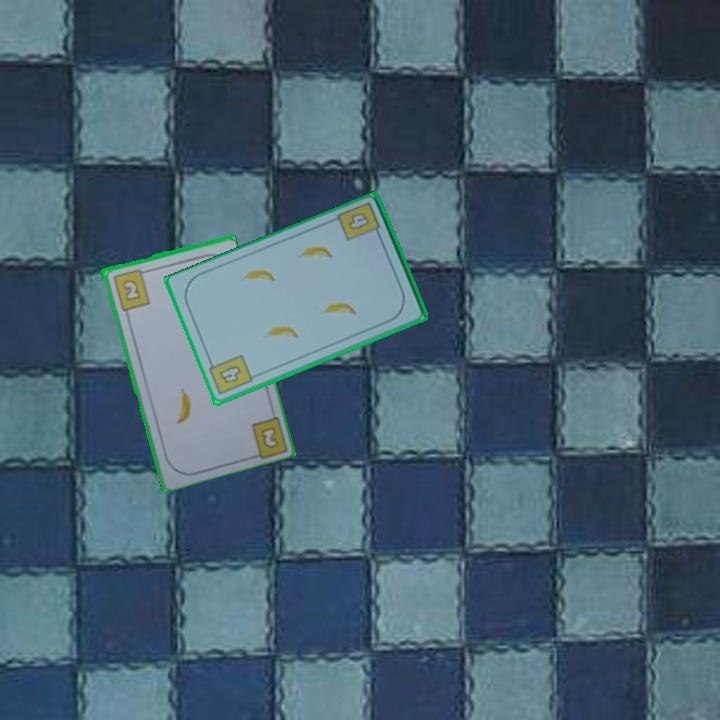2b: (109, 265, 152, 313), (257, 423, 281, 451)
4b: (205, 351, 256, 398), (334, 199, 384, 244)
